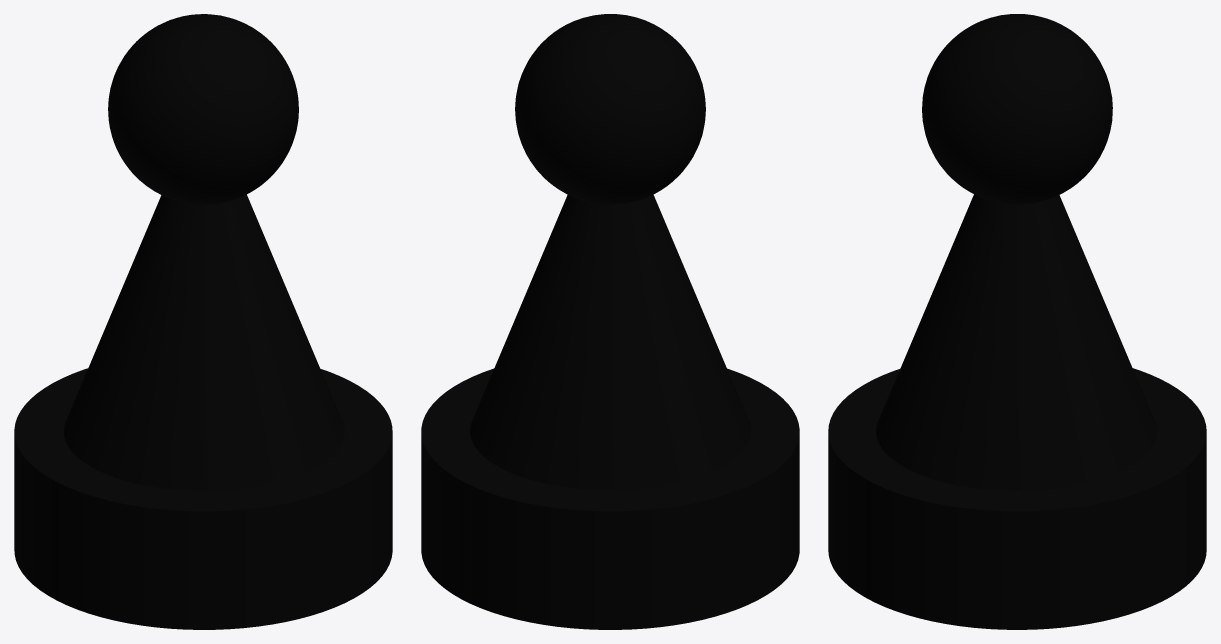
Rendered from pawn.fbx.
3 renders of one model, left to right at view 1: azimuth 30°, elevation 25°; view 2: azimuth 150°, elevation 25°; view 3: azimuth 270°, elevation 25°, orthographic.
Parts seen in each view (by area): view 1: node_id5, node_id7, node_id9; view 2: node_id5, node_id7, node_id9; view 3: node_id5, node_id7, node_id9.
Part boxes in pixels (bbox=[...]): node_id5: bbox=[14, 368, 392, 629]; node_id7: bbox=[63, 194, 344, 490]; node_id9: bbox=[108, 14, 298, 204]; node_id5: bbox=[421, 368, 799, 629]; node_id7: bbox=[470, 194, 750, 490]; node_id9: bbox=[515, 14, 705, 204]; node_id5: bbox=[828, 368, 1206, 629]; node_id7: bbox=[876, 194, 1157, 490]; node_id9: bbox=[922, 14, 1112, 204].
Size of the model in its own units: 0.333 by 0.512 by 0.333.
Materials: 3 (3 with a texture image).
